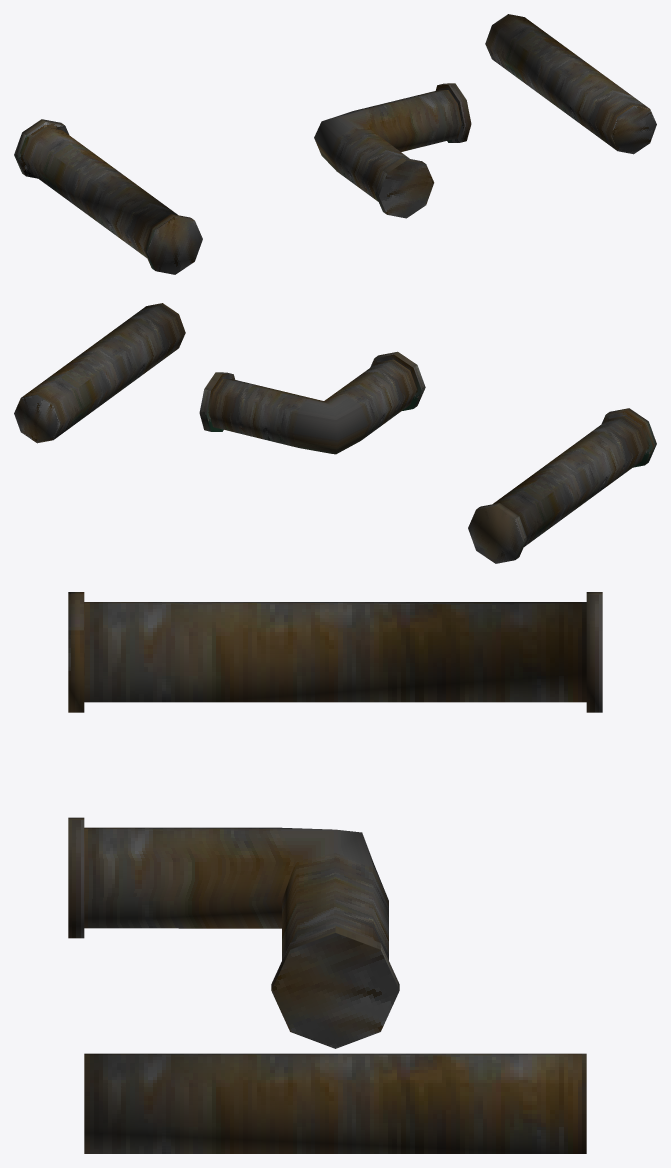
The model's file is rusty_pipes.glb.
3 renders of one model, top to bottom at view 1: azimuth 30°, elevation 25°; view 2: azimuth 150°, elevation 25°; view 3: azimuth 270°, elevation 25°, orthographic. The views are drawn at different scales.
Visible parts, largest first — view 1: Corner_PipePlugs, Direct_PipePlugs, Direct_Pipe; view 2: Corner_PipePlugs, Direct_PipePlugs, Direct_Pipe; view 3: Direct_PipePlugs, Direct_Pipe, Corner_PipePlugs.
Boxes of the visible parts, left/top/right/bottom form: Corner_PipePlugs: left=314, top=83, right=471, bottom=218; Direct_PipePlugs: left=14, top=119, right=202, bottom=274; Direct_Pipe: left=485, top=14, right=656, bottom=154; Corner_PipePlugs: left=199, top=351, right=425, bottom=454; Direct_PipePlugs: left=468, top=408, right=656, bottom=563; Direct_Pipe: left=14, top=303, right=185, bottom=443; Direct_PipePlugs: left=68, top=592, right=602, bottom=712; Direct_Pipe: left=84, top=1053, right=586, bottom=1153; Corner_PipePlugs: left=68, top=817, right=399, bottom=1048.
Bounding box in the file's own units: 3.55 × 0.384 × 1.6.
1 material, 1 textured.
